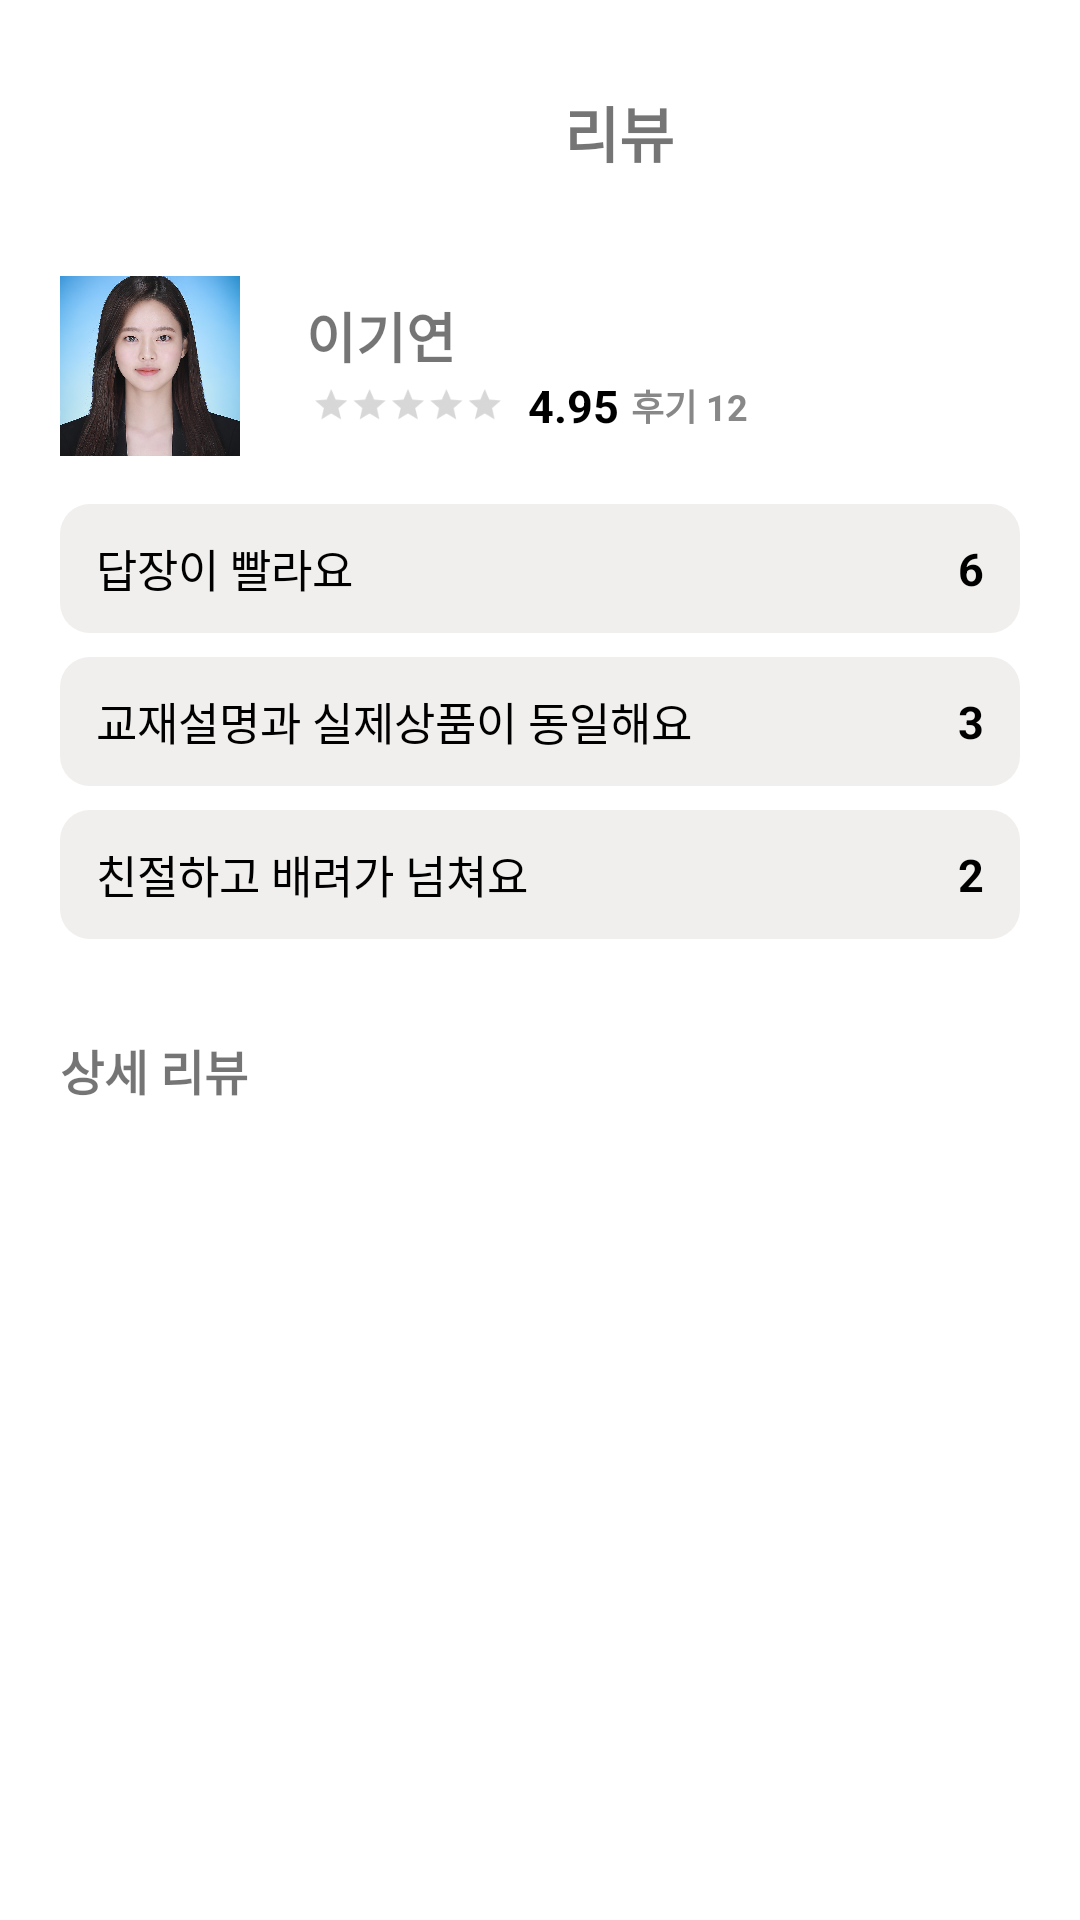

Screen size 1080x1920. Icon name, then its center in pixels as (x=x, y=y):
profile: (x=150, y=366)
